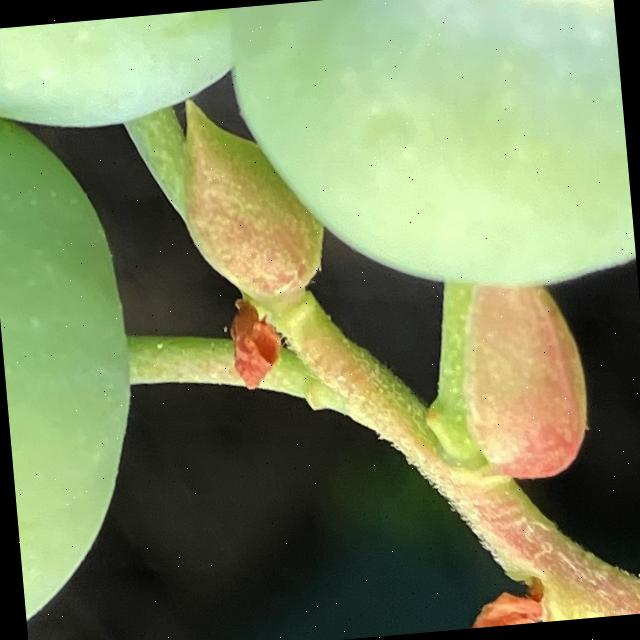Blueberries: (222, 0, 638, 316), (0, 59, 155, 640)
